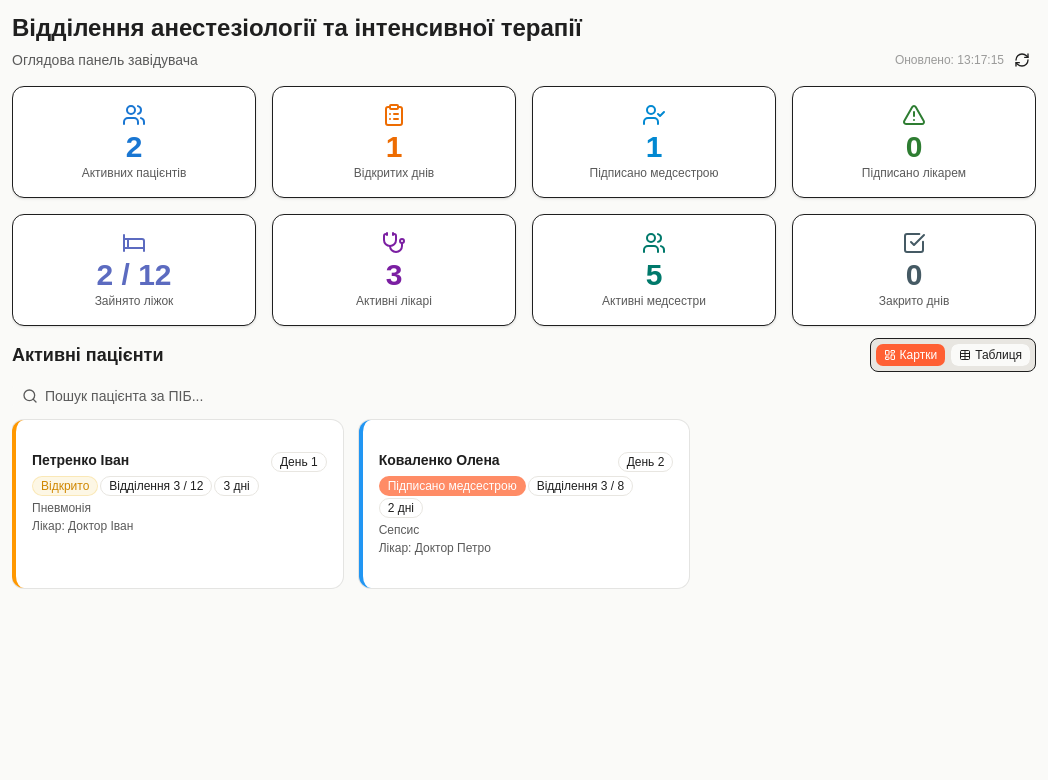
DepartmentDashboardPage › filters patients by search
The width and height of the screenshot is (1048, 780).
Expected: the text "Петренко Іван" is shown, [32,452,129,470]
Type "Петренко" into the field with placeholder "Пошук пацієнта за ПІБ...".
click(524, 396); type("Петренко")  # box [12,380,1036,412]
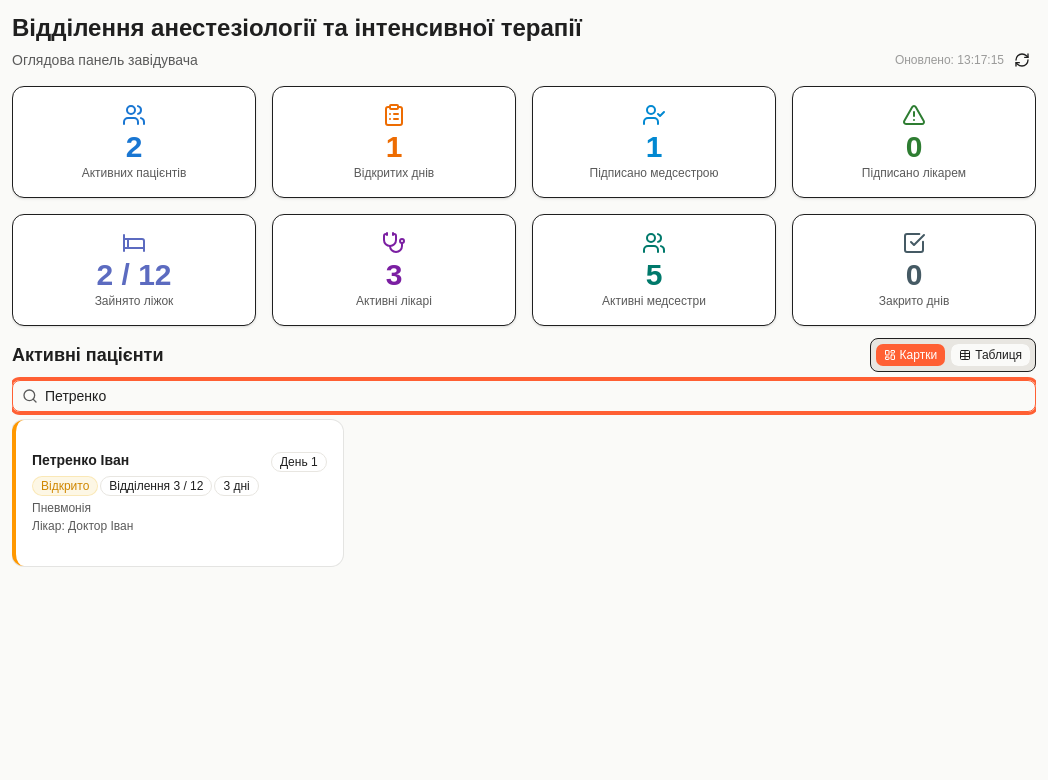
Expected: the text "Петренко Іван" is shown, [32,452,129,470]
Expected: the text "Коваленко Олена" is gone
